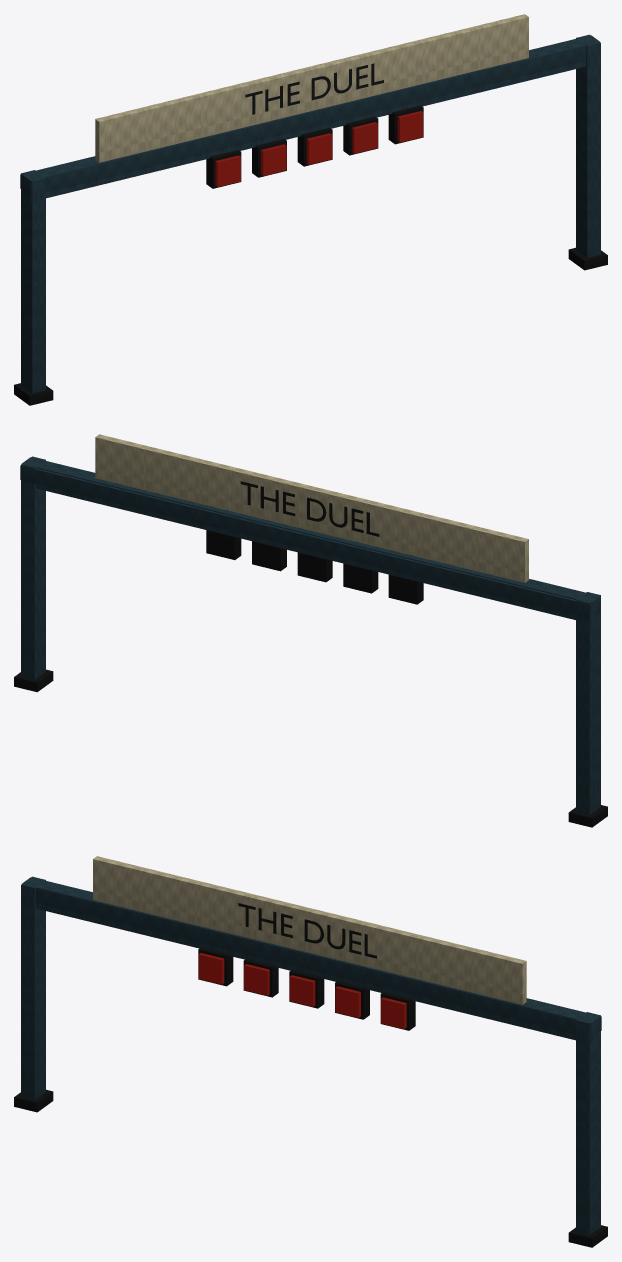
File: start-gantry.glb
3 views of the same model, one above another, from view 1: azimuth 30°, elevation 25°; view 2: azimuth 150°, elevation 25°; view 3: azimuth 330°, elevation 25° (orthographic).
Visible parts, largest first — view 1: gantry-series-banner, gantry-reinforced-crossbeam, start-light-gantry_0, gantry-reinforced-post, gantry-reinforced-post.001, gantry-series-name-front, lamp-5, lamp-3, lamp-4, lamp-2, lamp-1, gantry-footing (+1 smaller); view 2: gantry-series-banner, gantry-reinforced-crossbeam, start-light-gantry_0, gantry-reinforced-post, gantry-reinforced-post.001, gantry-series-name-rear, lamp-housing-3, lamp-housing-5, lamp-housing-1, lamp-housing-2, lamp-housing-4, gantry-footing (+1 smaller); view 3: gantry-series-banner, gantry-reinforced-crossbeam, start-light-gantry_0, gantry-reinforced-post.001, gantry-reinforced-post, gantry-series-name-front, lamp-1, lamp-3, lamp-2, lamp-4, lamp-5, gantry-footing.001 (+1 smaller).
Boxes of the visible parts, x1,y1,x2,y2 form: gantry-series-banner: (95, 14, 528, 162); gantry-reinforced-crossbeam: (20, 39, 586, 195); start-light-gantry_0: (21, 35, 599, 201); gantry-reinforced-post: (21, 170, 45, 393); gantry-reinforced-post.001: (576, 34, 600, 257); gantry-series-name-front: (245, 63, 383, 114); lamp-5: (397, 111, 423, 142); lamp-3: (306, 133, 332, 164); lamp-4: (352, 122, 377, 153); lamp-2: (261, 144, 286, 175); lamp-1: (215, 155, 240, 186); gantry-footing: (14, 383, 53, 405); gantry-series-banner: (95, 434, 528, 582); gantry-reinforced-crossbeam: (20, 465, 600, 618); start-light-gantry_0: (22, 457, 600, 623); gantry-reinforced-post: (576, 592, 600, 815); gantry-reinforced-post.001: (21, 456, 45, 679); gantry-series-name-rear: (240, 481, 379, 536); lamp-housing-3: (297, 552, 332, 582); lamp-housing-5: (206, 530, 241, 559); lamp-housing-1: (388, 574, 423, 604); lamp-housing-2: (343, 563, 378, 593); lamp-housing-4: (252, 541, 286, 571); gantry-footing: (568, 805, 607, 827); gantry-series-banner: (93, 856, 526, 1004); gantry-reinforced-crossbeam: (35, 881, 601, 1037); start-light-gantry_0: (22, 877, 600, 1043); gantry-reinforced-post.001: (576, 1012, 600, 1235); gantry-reinforced-post: (21, 876, 45, 1099); gantry-series-name-front: (238, 903, 376, 958); lamp-1: (198, 953, 224, 984); lamp-3: (289, 975, 315, 1006); lamp-2: (244, 964, 269, 995); lamp-4: (335, 986, 360, 1017); lamp-5: (381, 997, 406, 1028); gantry-footing.001: (568, 1225, 607, 1247).
Bounding box in the file's own units: 17.76 × 7.7 × 0.93.
Materials: 9 (4 with a texture image).
